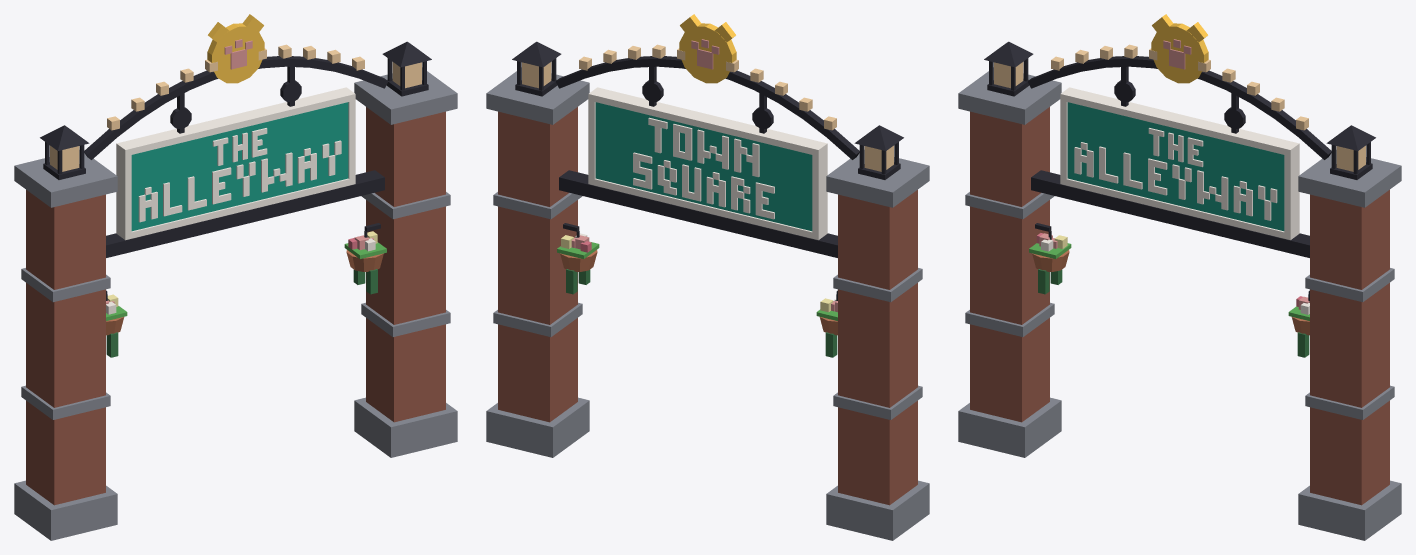
Rendered from CatCafe_Square_ArchAlley.glb.
3 views of the same model, side by side, from view 1: azimuth 30°, elevation 25°; view 2: azimuth 150°, elevation 25°; view 3: azimuth 330°, elevation 25° (orthographic).
Parts seen in each view (by area): view 1: CatCafe_Square_ArchAlley, CatCafe_Square_ArchAlley_Bulbs, CatCafe_Square_ArchAlley_Flowers, CatCafe_Square_ArchAlley_Lamp_Bulb; view 2: CatCafe_Square_ArchAlley, CatCafe_Square_ArchAlley_Bulbs, CatCafe_Square_ArchAlley_Lamp_Bulb, CatCafe_Square_ArchAlley_Flowers; view 3: CatCafe_Square_ArchAlley, CatCafe_Square_ArchAlley_Bulbs, CatCafe_Square_ArchAlley_Flowers, CatCafe_Square_ArchAlley_Lamp_Bulb.
Boxes of the visible parts, <box> form: CatCafe_Square_ArchAlley: <box>14,14,457,540</box>; CatCafe_Square_ArchAlley_Bulbs: <box>107,44,364,130</box>; CatCafe_Square_ArchAlley_Flowers: <box>106,231,386,320</box>; CatCafe_Square_ArchAlley_Lamp_Bulb: <box>50,62,421,171</box>; CatCafe_Square_ArchAlley: <box>486,14,929,540</box>; CatCafe_Square_ArchAlley_Bulbs: <box>579,44,836,130</box>; CatCafe_Square_ArchAlley_Lamp_Bulb: <box>522,62,893,171</box>; CatCafe_Square_ArchAlley_Flowers: <box>557,233,837,320</box>; CatCafe_Square_ArchAlley: <box>958,14,1401,540</box>; CatCafe_Square_ArchAlley_Bulbs: <box>1051,44,1308,130</box>; CatCafe_Square_ArchAlley_Flowers: <box>1029,233,1309,320</box>; CatCafe_Square_ArchAlley_Lamp_Bulb: <box>994,62,1365,171</box>.
Size of the model in its own units: 16.6 by 17.89 by 2.6.
1 material, 1 textured.
